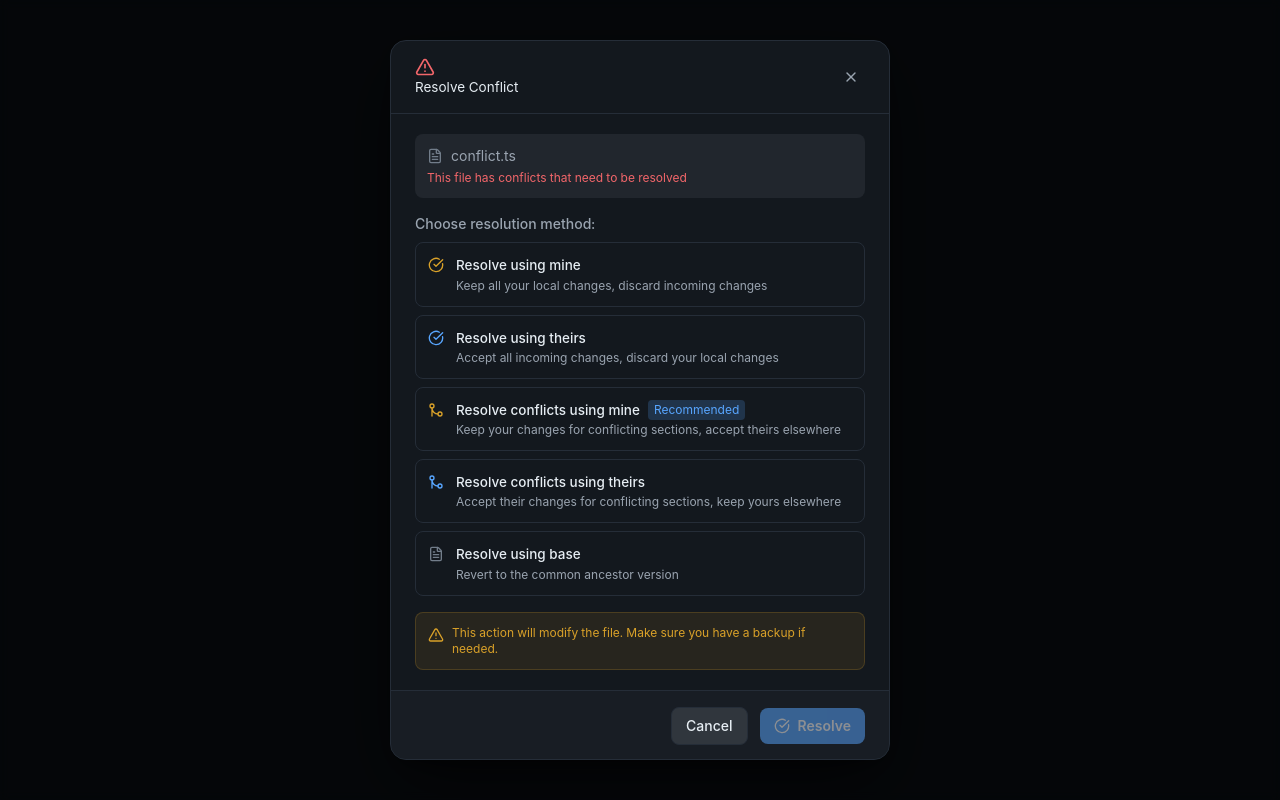
Test: conflict resolution workflows › resolves direct conflict-dialog selections with the selected strategy
Click the text "Resolve conflicts using theirs". click: click(550, 482)
box: [456,472,645,492]
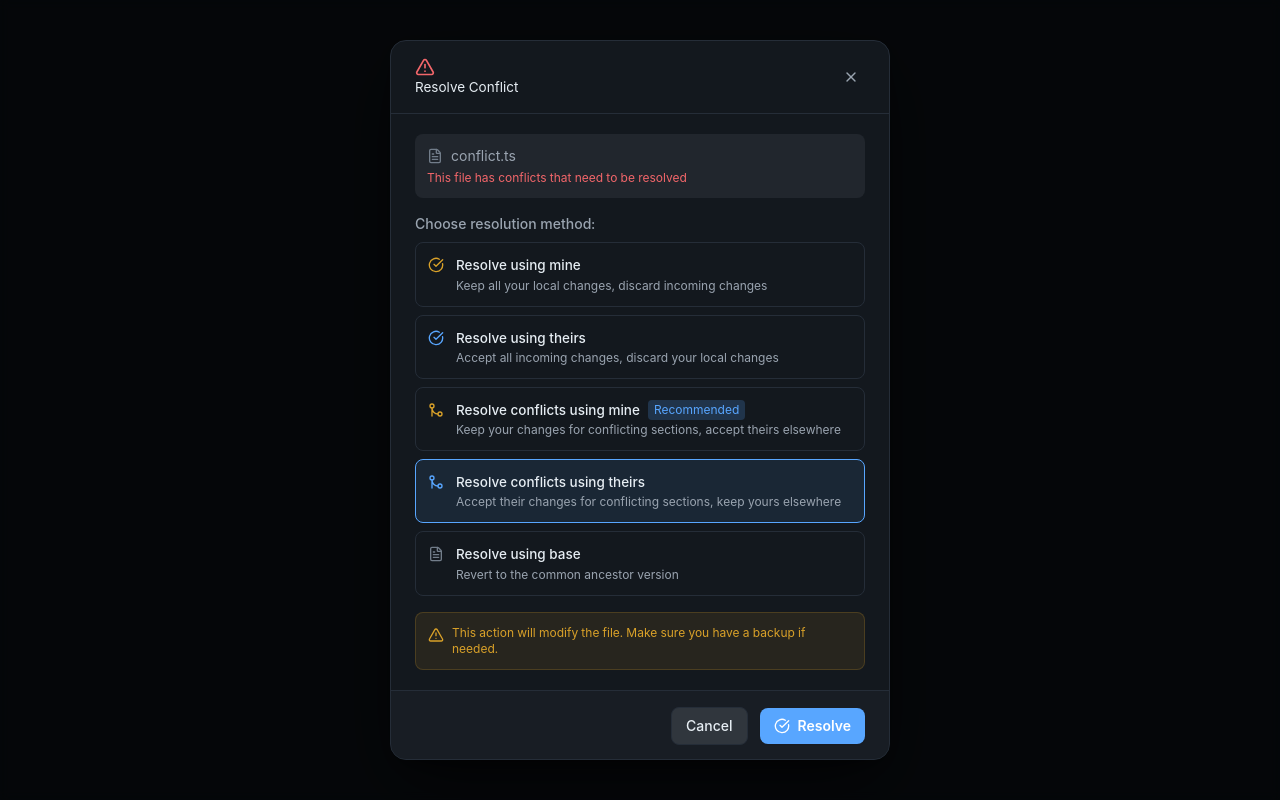
Click the button "Resolve". click: click(812, 726)
box: [760,708,865,744]
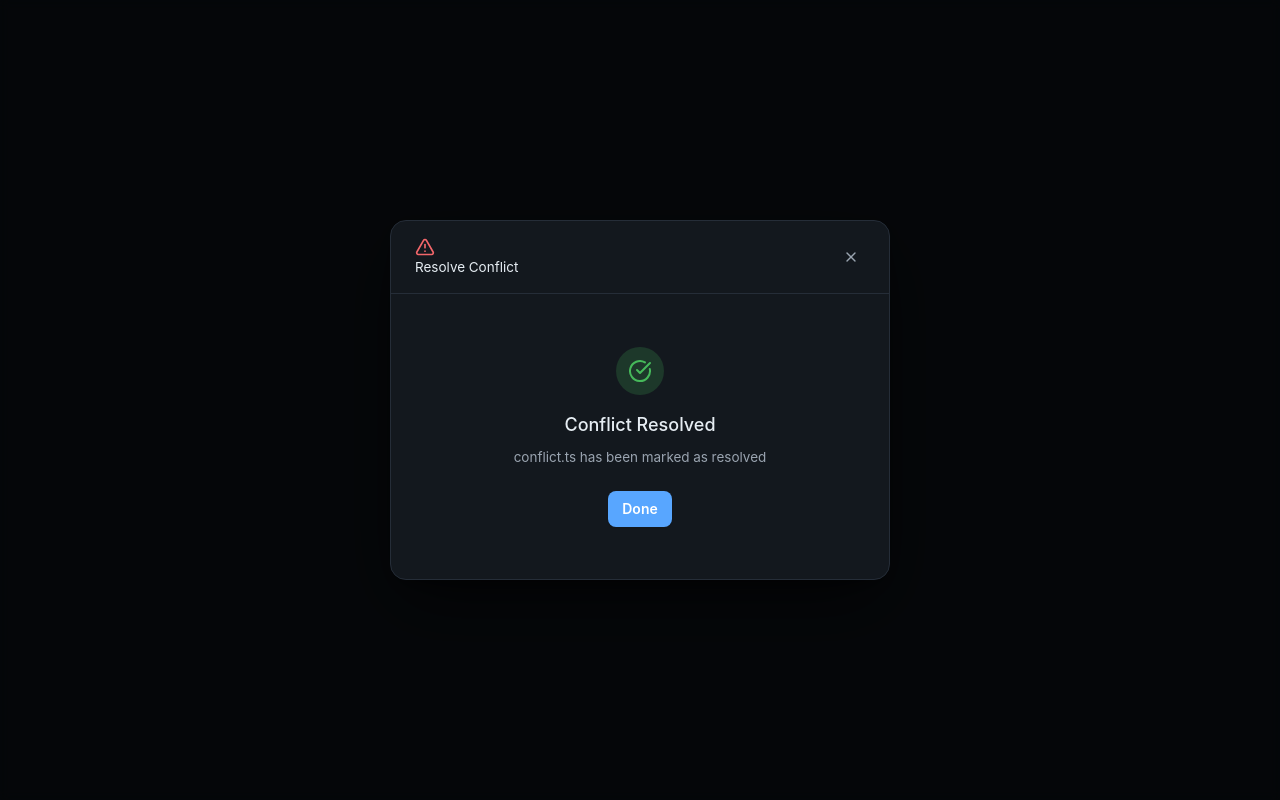
Expected: the heading "Conflict Resolved" is shown, [564,410,716,438]
